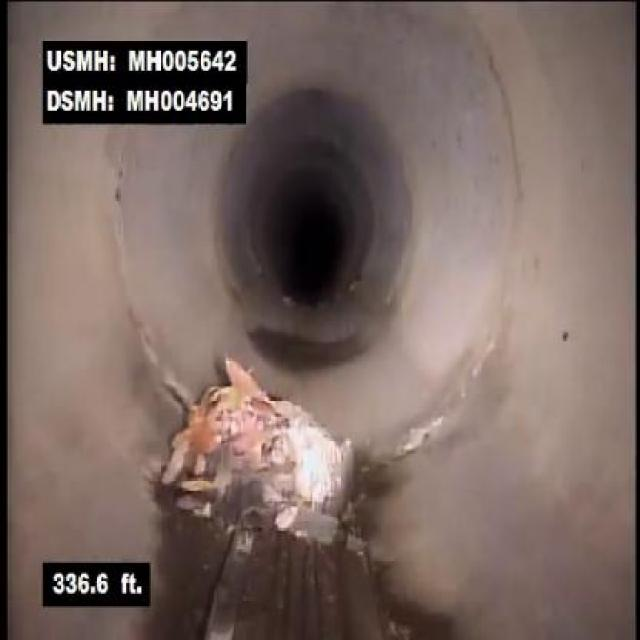Debris: (155, 342, 374, 563)
